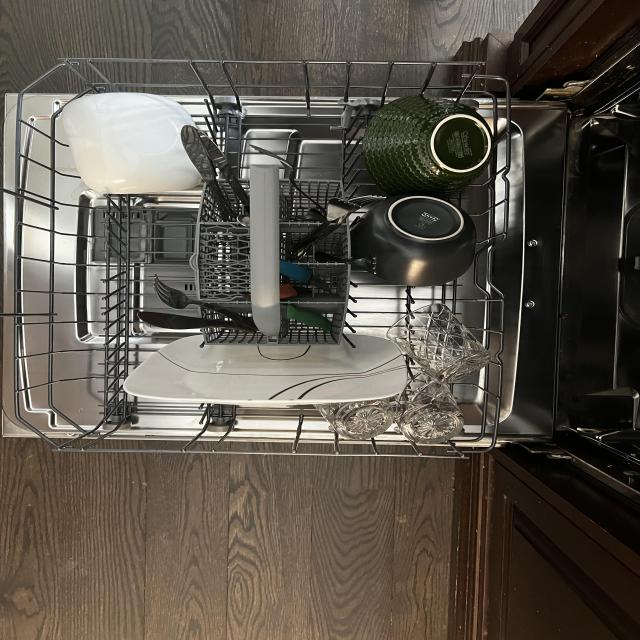Bowl: (66, 89, 210, 193), (356, 93, 496, 197), (353, 191, 476, 286)
Fork: (294, 194, 388, 259), (249, 142, 327, 216), (152, 270, 251, 326), (284, 196, 362, 258), (313, 249, 378, 278), (281, 206, 324, 222)
Glass: (385, 302, 491, 384), (394, 364, 464, 444)
Knife: (180, 124, 236, 222), (192, 125, 250, 218), (137, 310, 253, 330), (279, 259, 332, 294)
Plate: (118, 331, 410, 404)
